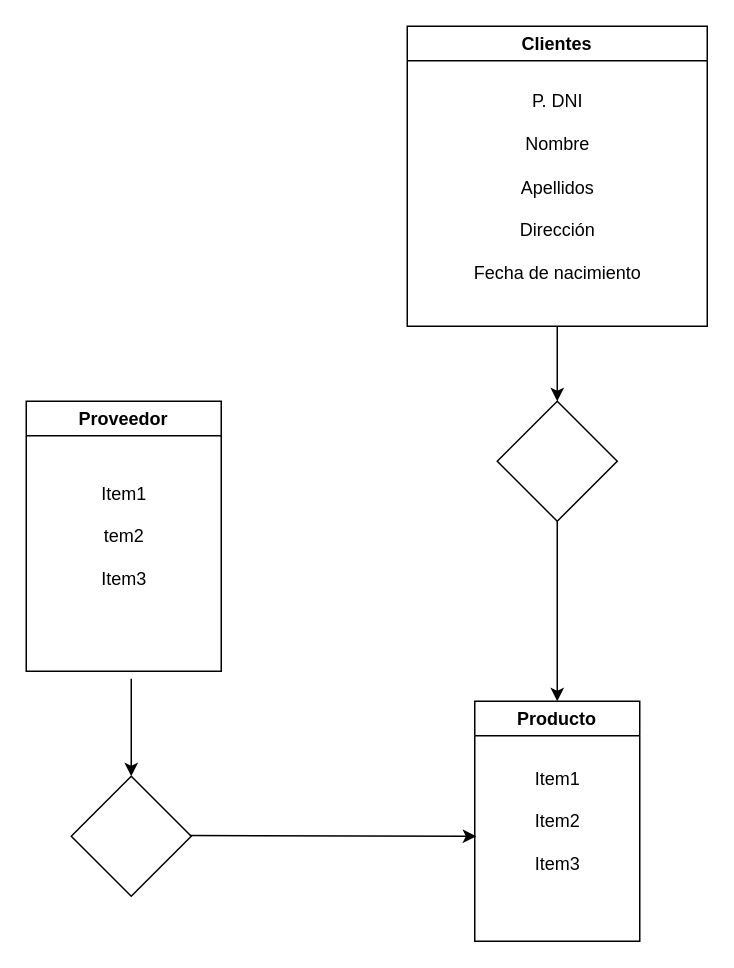
This 734x968 diagram has some shape labels left out. Each missing label, with the box of its shape:
Compra: (496, 400, 617, 521)
Suministra: (70, 775, 191, 896)
